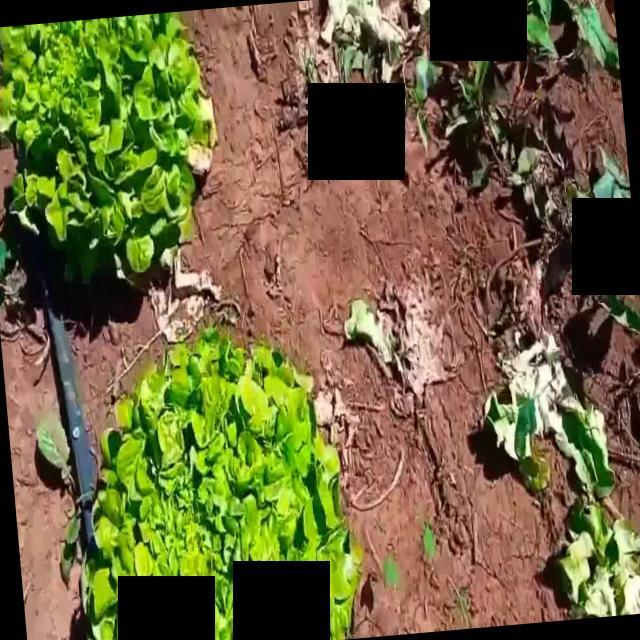Lettuce: (76, 327, 357, 640), (0, 11, 217, 290)
